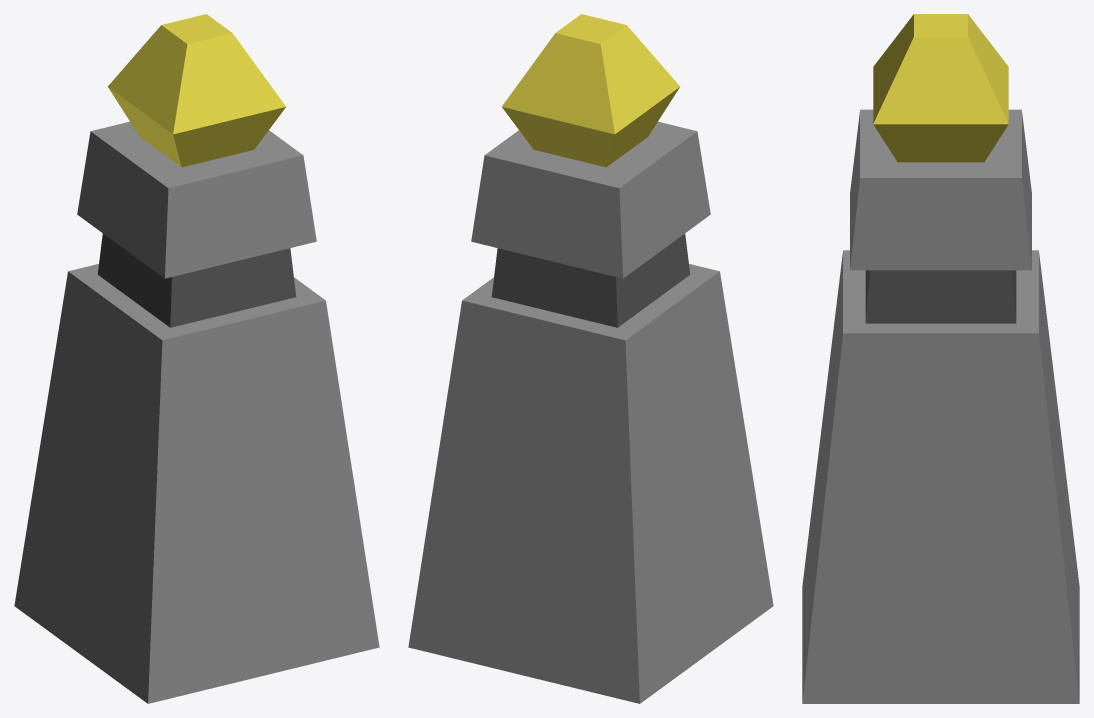
The model's file is SM_MonolithTower.fbx.
3 renders of one model, left to right at view 1: azimuth 30°, elevation 25°; view 2: azimuth 150°, elevation 25°; view 3: azimuth 270°, elevation 25°, orthographic. The views are drawn at different scales.
Parts seen in each view (by area): view 1: MonolithTower; view 2: MonolithTower; view 3: MonolithTower.
Part boxes in pixels (x1,y1,x2,y2): MonolithTower: (14, 14, 379, 703); MonolithTower: (408, 14, 773, 703); MonolithTower: (802, 14, 1079, 703).
Bounding box in the file's own units: 106 × 261 × 106.
